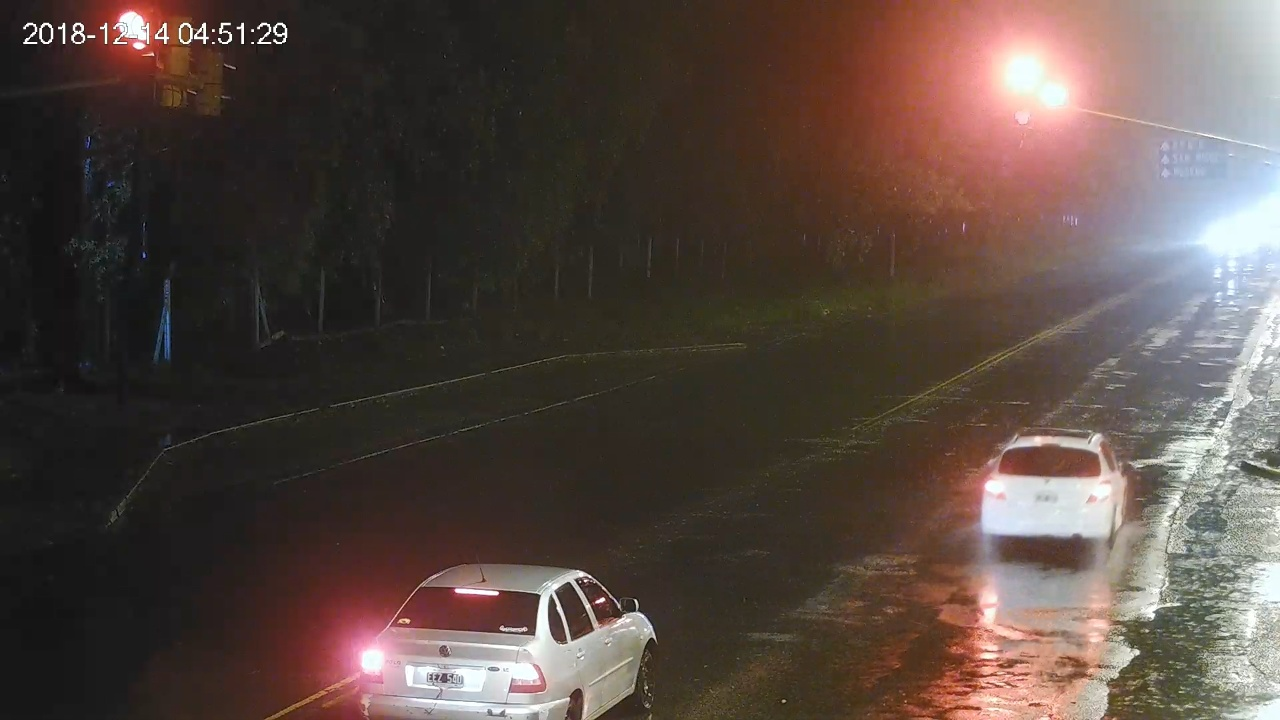car: (360, 563, 657, 720), (982, 428, 1133, 549)
traffic light: (1014, 61, 1033, 127)
